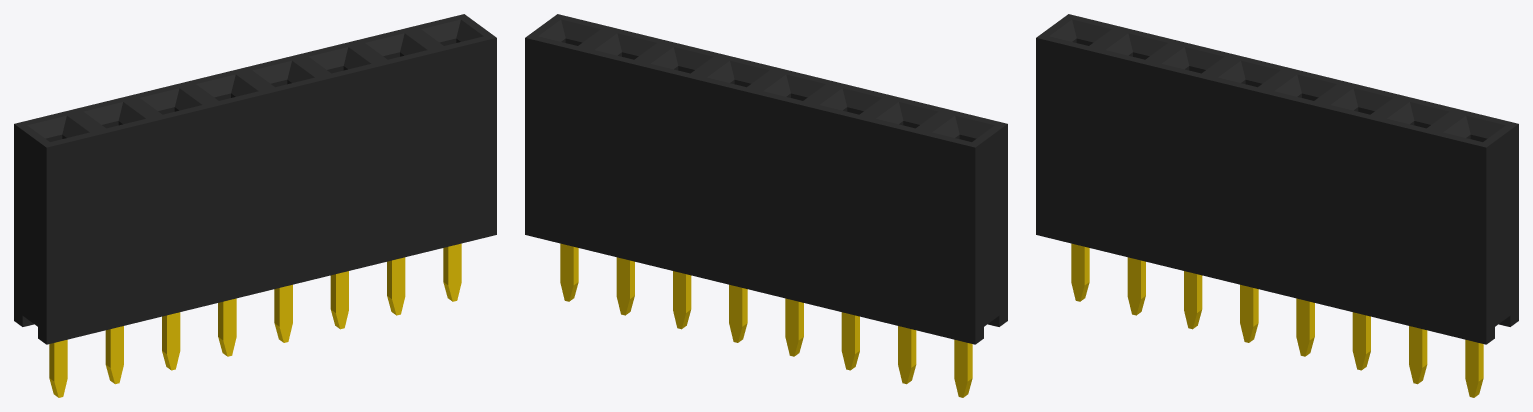
Rendered from PBS8.glb.
The picture shows the model from 3 angles, left to right: view 1: azimuth 30°, elevation 25°; view 2: azimuth 150°, elevation 25°; view 3: azimuth 330°, elevation 25°; orthographic projection.
Parts seen in each view (by area): view 1: PBS (DS1023 CONNFLY); view 2: PBS (DS1023 CONNFLY); view 3: PBS (DS1023 CONNFLY).
Boxes of the visible parts, x1=… form: PBS (DS1023 CONNFLY): x1=14, y1=14, x2=496, y2=397; PBS (DS1023 CONNFLY): x1=525, y1=14, x2=1007, y2=397; PBS (DS1023 CONNFLY): x1=1036, y1=14, x2=1518, y2=397.
Bounding box in the file's own units: 0.0203 × 0.0115 × 0.00254.
